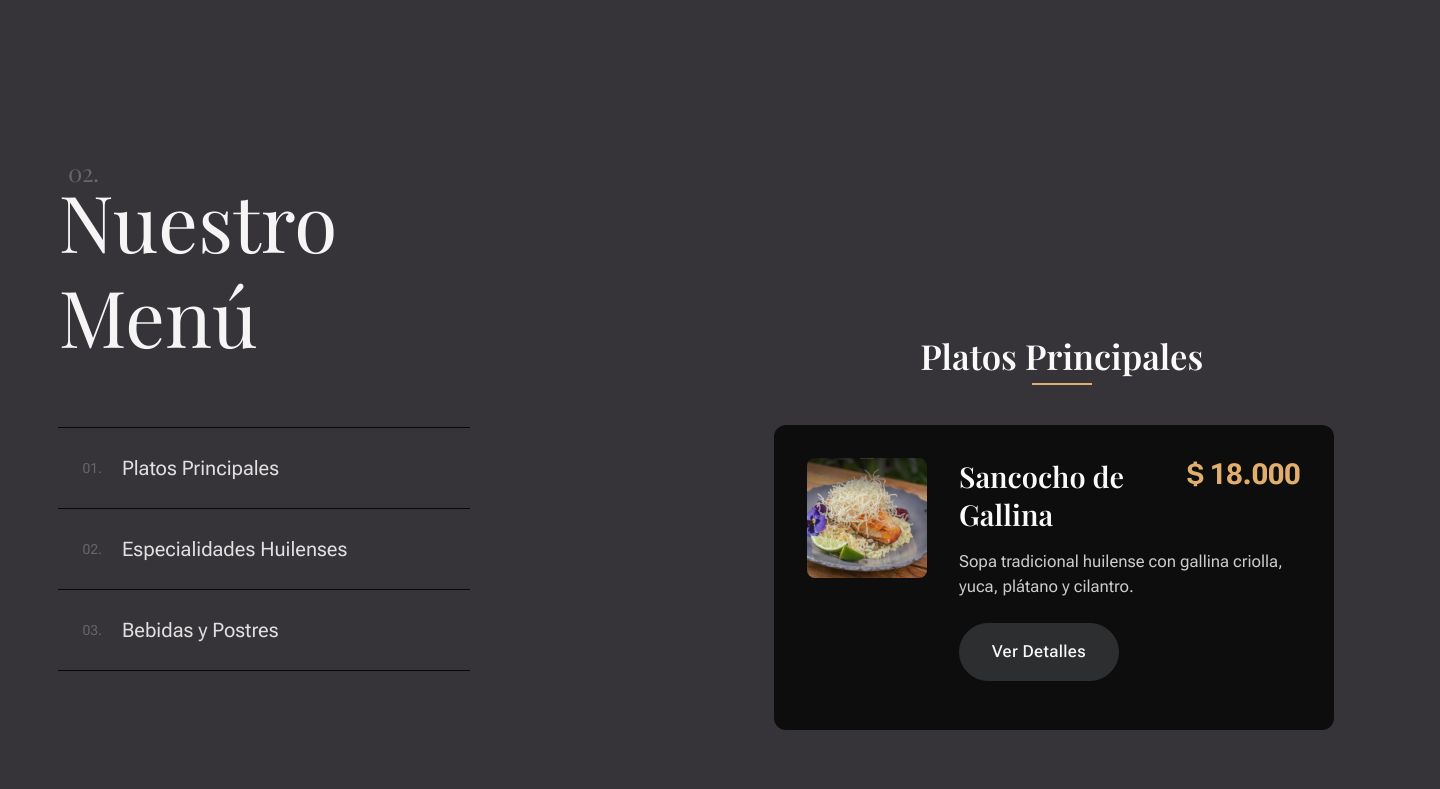
Test: Menu Component › changes category when clicking on tab
Click on the second category
Click the link "Especialidades Huilenses": (235, 549) [122, 537, 347, 561]
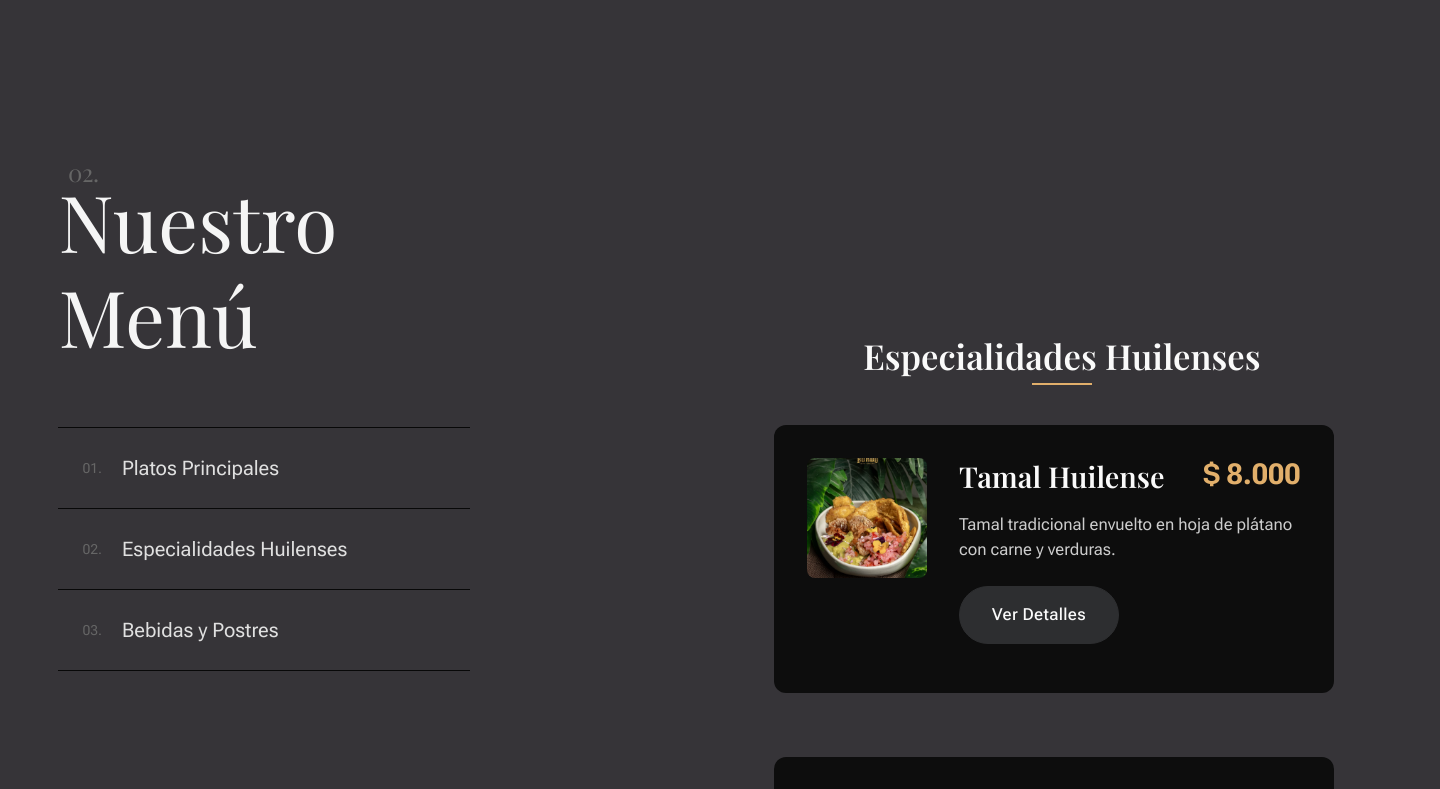
Now the heading "Tamal Huilense" is shown, box [959, 458, 1164, 496]
